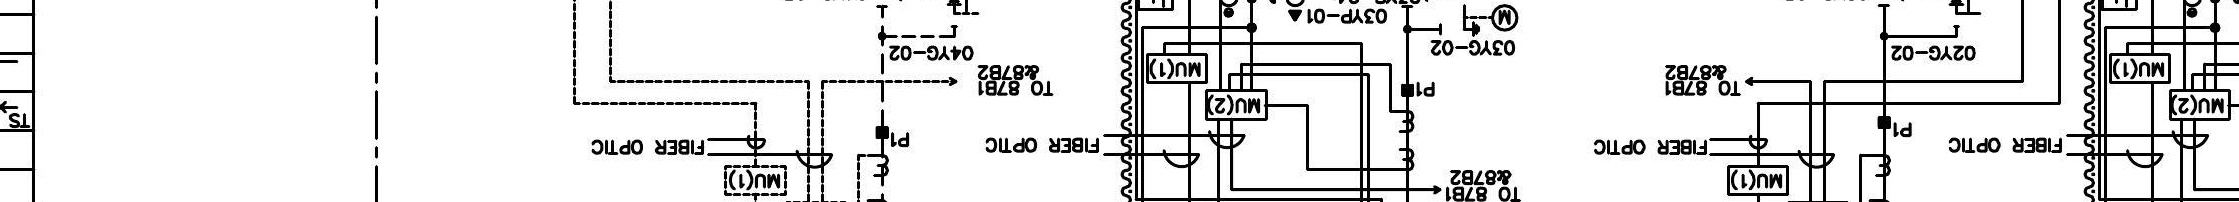115_gs_w_motor: (1438, 3, 1519, 37)
MU: (2169, 89, 2232, 122), (2109, 52, 2172, 85), (1205, 89, 1268, 122), (1726, 165, 1789, 196), (1145, 53, 1208, 85)
